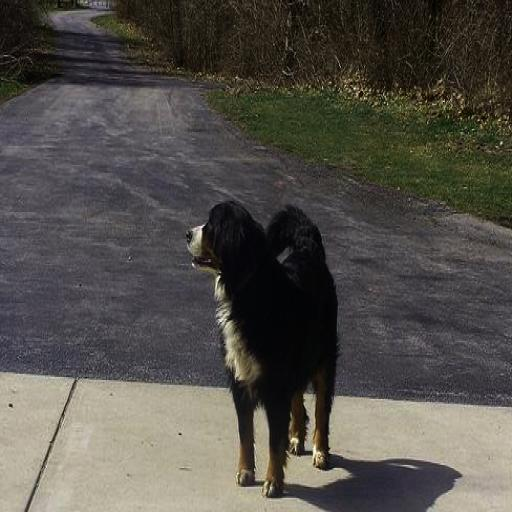dog_face: (174, 200, 252, 274)
